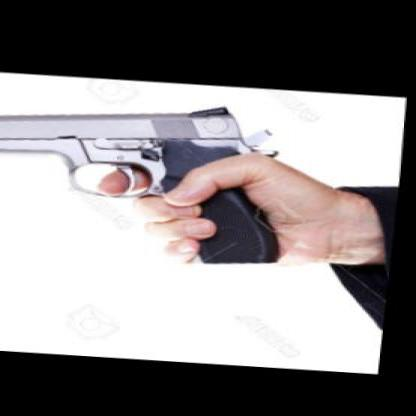pistol: (0, 88, 300, 272)
